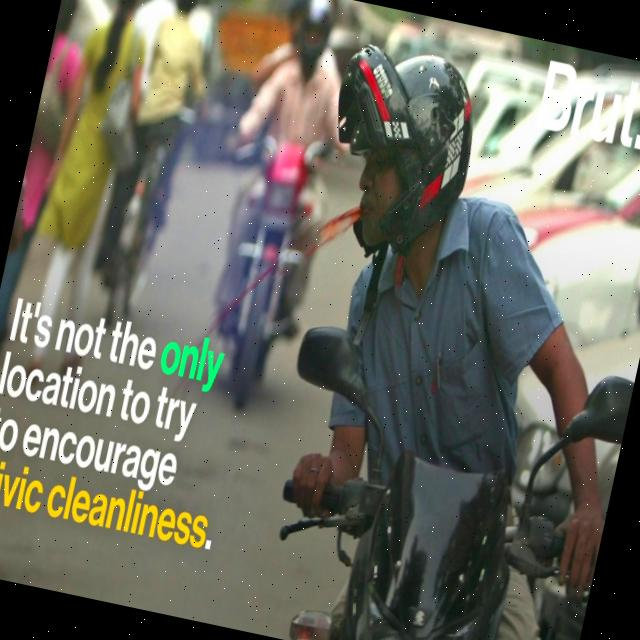spit: (207, 147, 409, 350)
